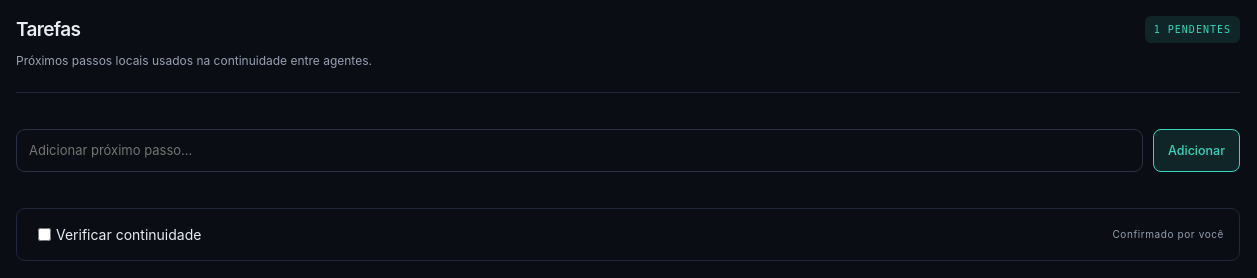
Test: Tarefas usa proveniência legível e permite concluir um item
This screenshot has width=1257, height=278.
Expected: the text "Confirmado por você" is shown, 1112,228 -> 1224,240
Click the checkbox: [44, 234] box 36,228 -> 53,240
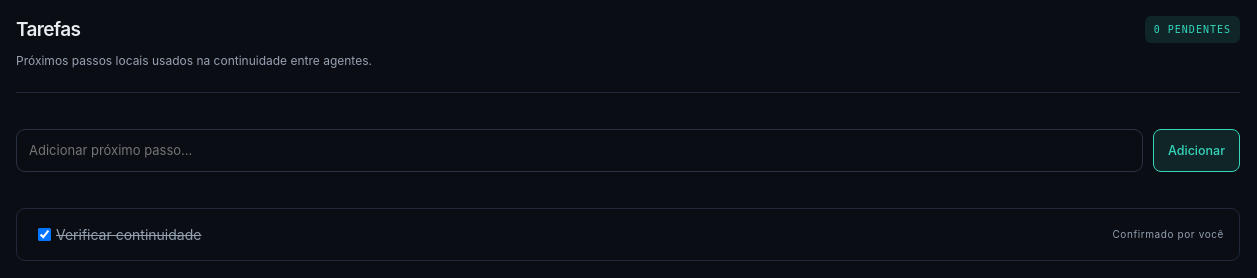
Now the checkbox is checked, box 36,228 -> 53,240
